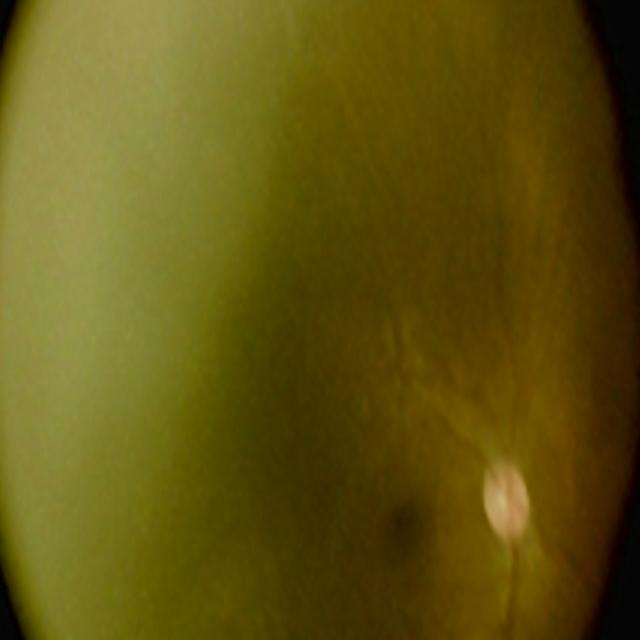optic-nerve: (454, 420, 557, 610)
